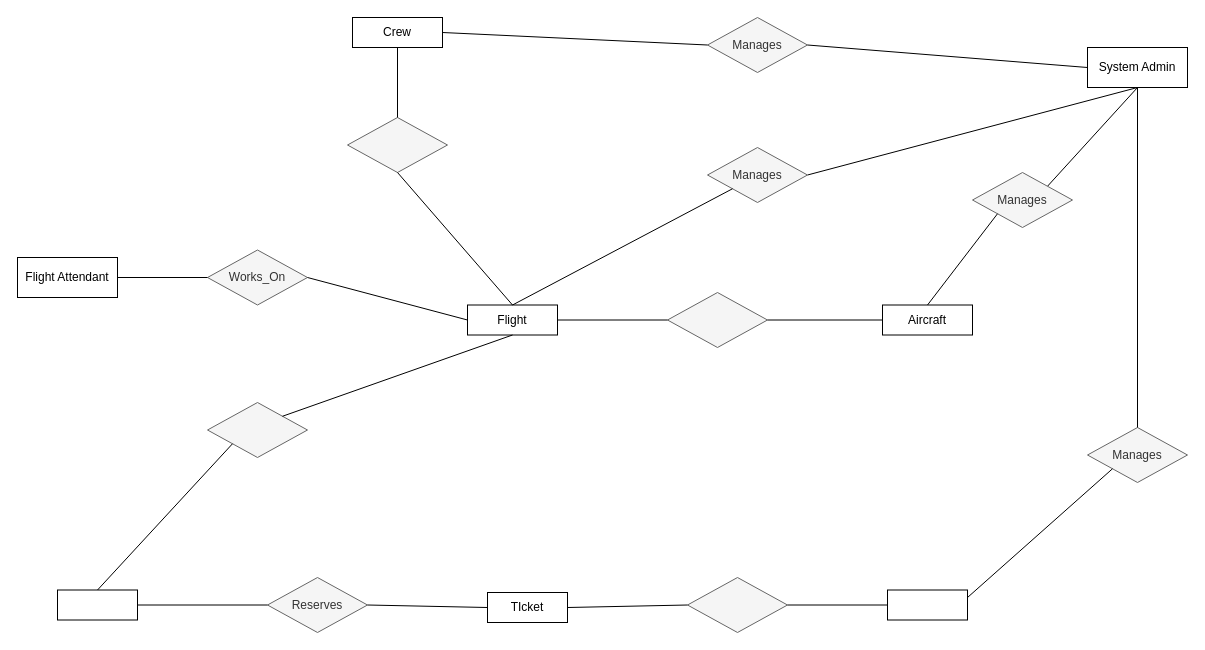
Image size: 1205x650. Some labels were removed from this diagram. Each missing label, with the box of its shape:
Buys: (686, 576, 788, 632)
Has: (206, 402, 308, 458)
On: (666, 292, 768, 348)
Operates: (346, 116, 448, 172)
Seat: (56, 589, 138, 620)
User: (886, 589, 968, 620)
